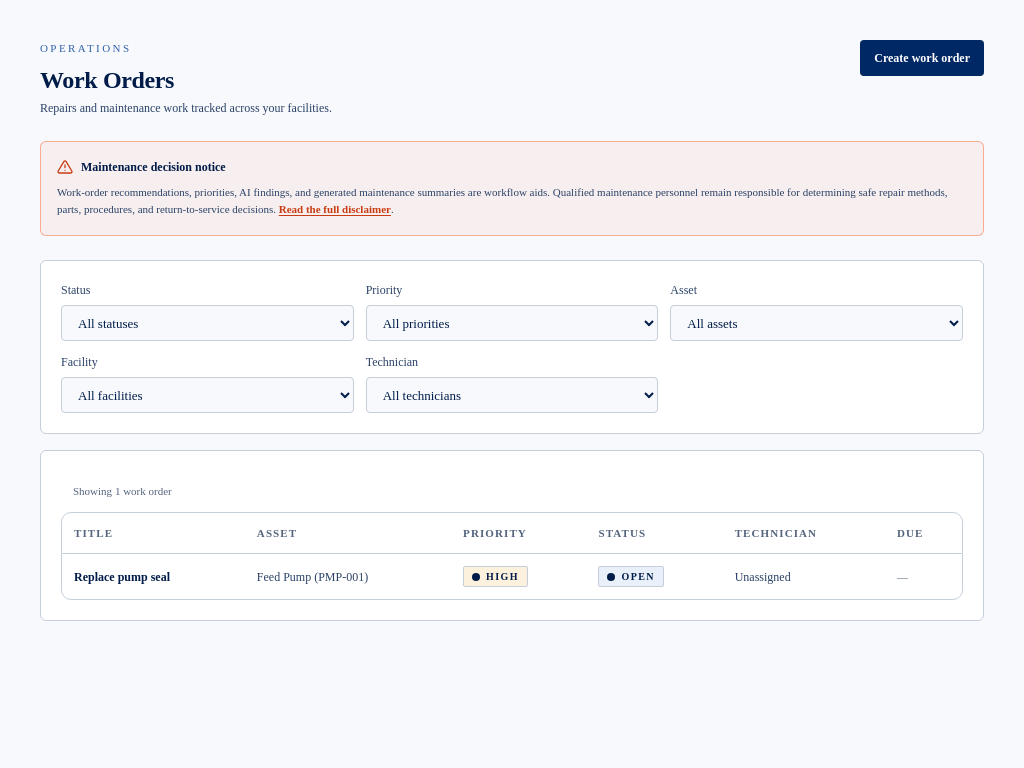
Scenario: work orders page › creates a work order through the modal and refreshes the list
Expected: the text "Replace pump seal" is shown, x1=62 y1=554 x2=245 y2=599
Click the button "Create work order". click: (922, 58)
box: x1=860 y1=40 x2=984 y2=76
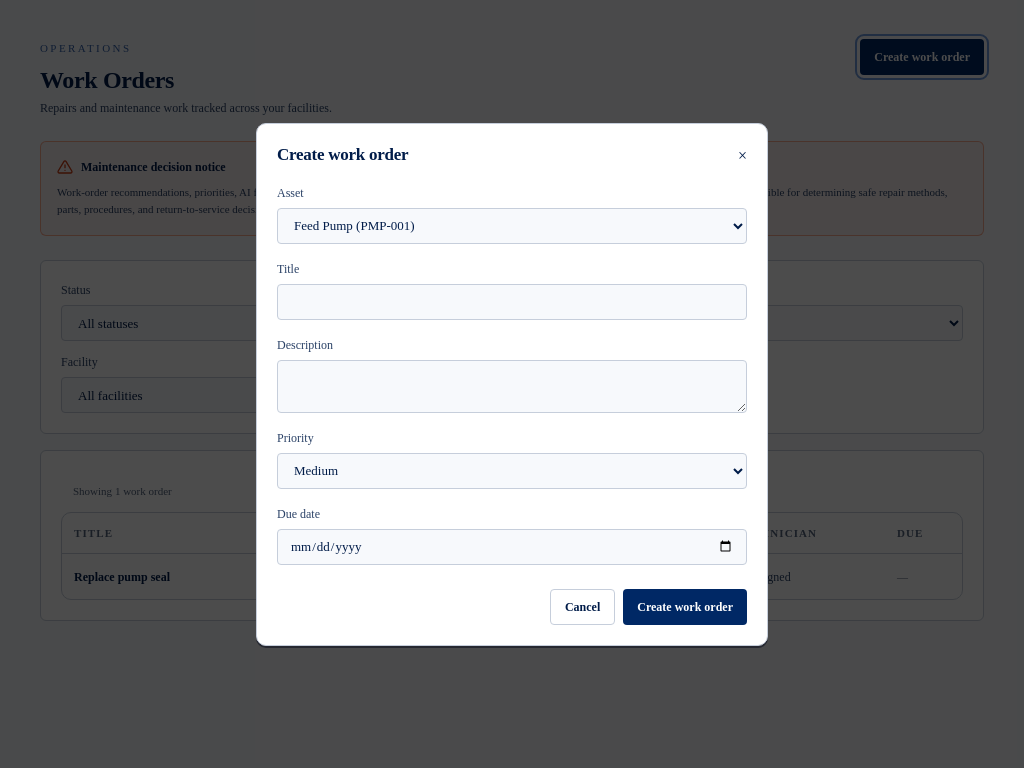
Select "Feed Pump (PMP-001)" in the dropdown labelled "Asset". click: (512, 226)
box: x1=277 y1=208 x2=747 y2=244
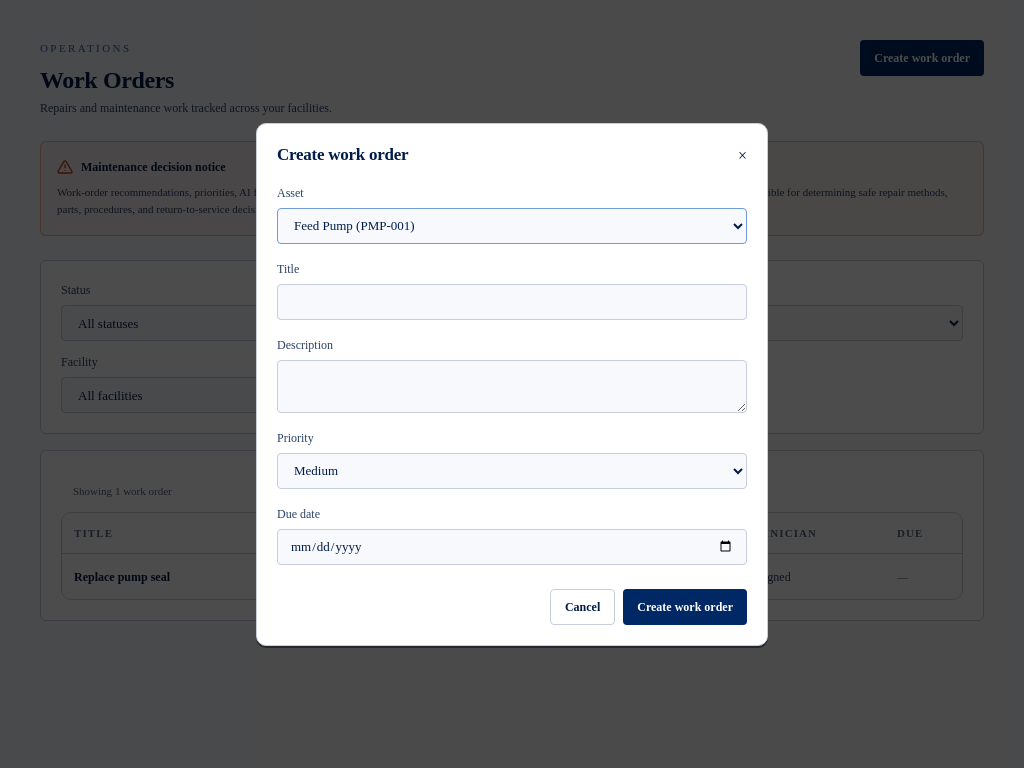
Type "New Work Order" into the field labelled "Title". click: (512, 302)
box: x1=277 y1=284 x2=747 y2=320
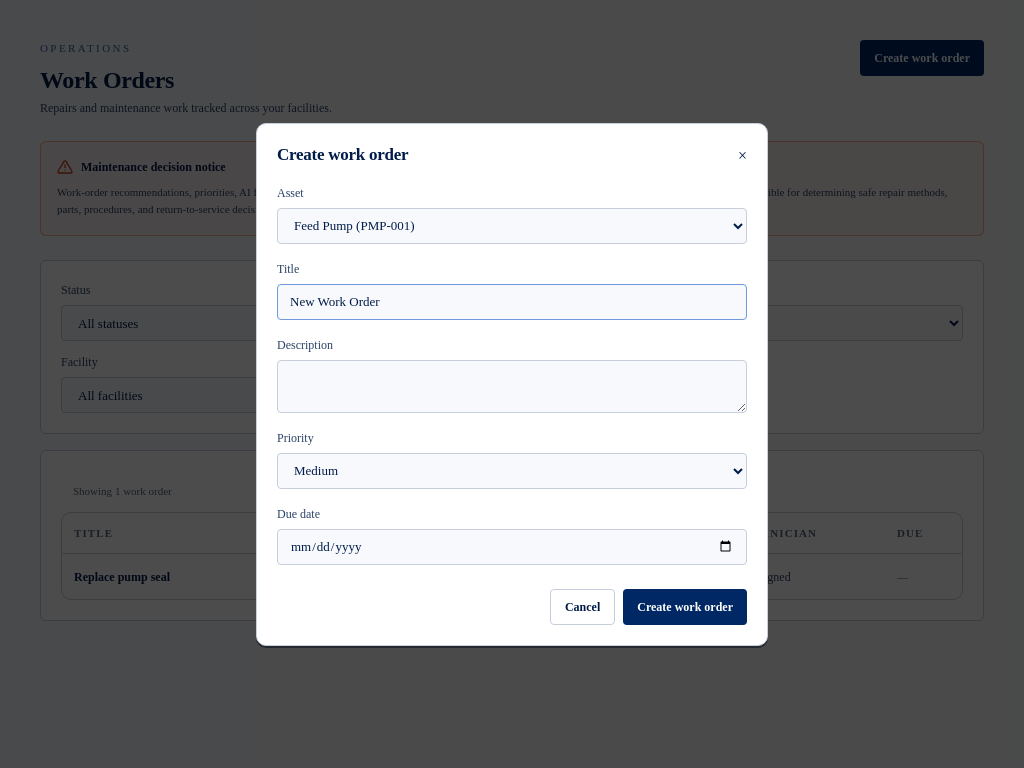
Select "Critical" in the dropdown labelled "Priority". click: (512, 470)
box: x1=277 y1=452 x2=747 y2=488
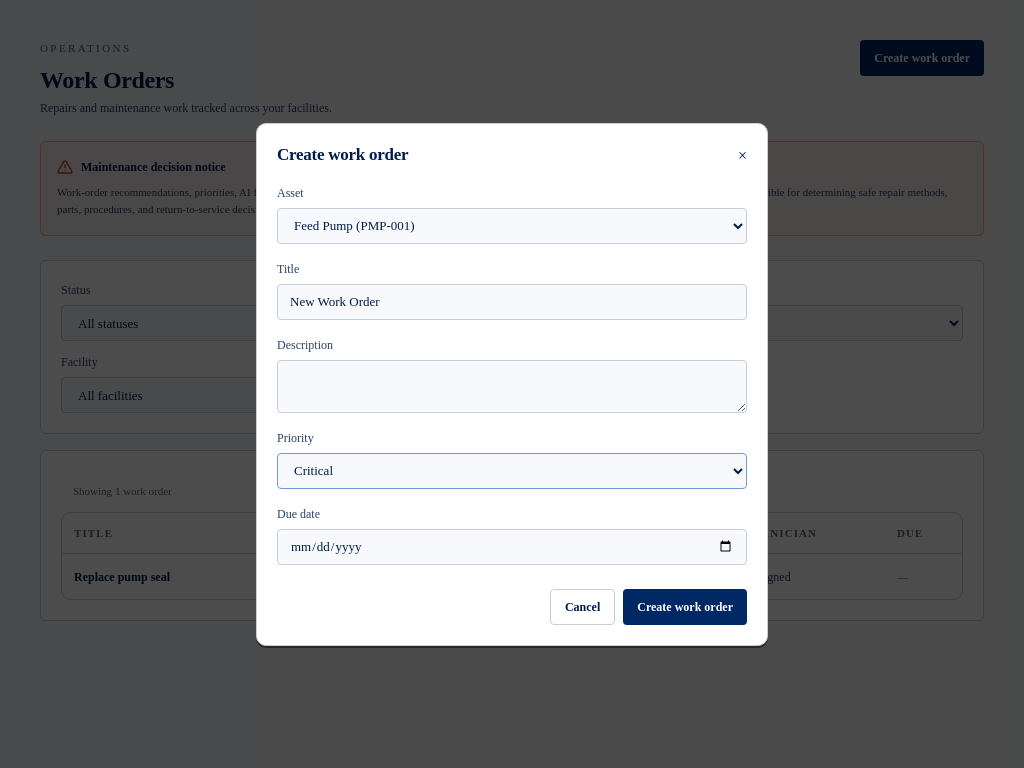
Click the button "Create work order". click: (685, 606)
box: x1=623 y1=588 x2=747 y2=624
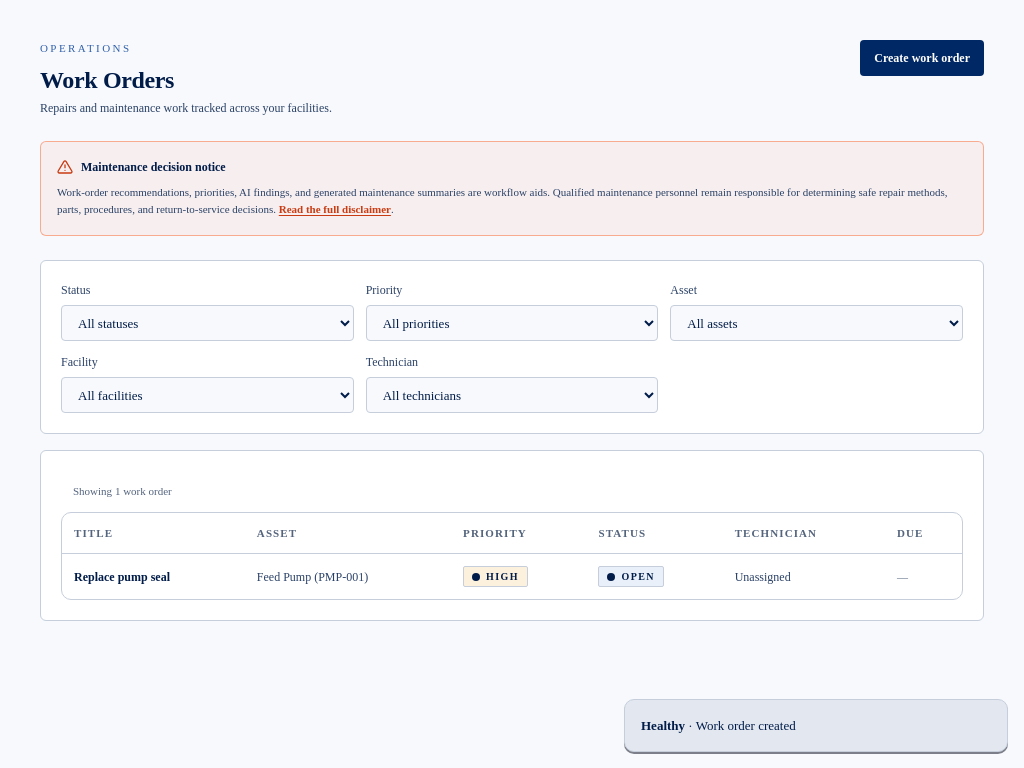
Expected: the dialog is gone
